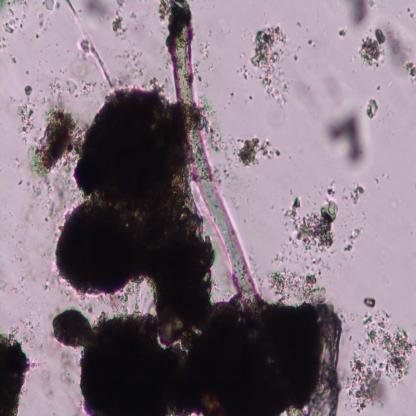Background material: (56, 72, 218, 331), (52, 300, 319, 416), (345, 309, 415, 408), (28, 105, 84, 180), (68, 3, 112, 88), (284, 186, 339, 252), (324, 100, 372, 175), (249, 21, 292, 100), (16, 177, 69, 223), (0, 330, 28, 415), (267, 269, 328, 307), (384, 21, 416, 83), (232, 136, 280, 170), (11, 242, 37, 296), (275, 252, 330, 273), (20, 81, 36, 144), (324, 67, 351, 104), (359, 29, 385, 66), (84, 0, 115, 29), (188, 32, 213, 66), (21, 319, 44, 354), (2, 2, 27, 34), (55, 342, 74, 382), (348, 0, 372, 29), (114, 0, 129, 41), (344, 228, 362, 252), (35, 13, 49, 41), (349, 180, 363, 203), (365, 96, 379, 118), (236, 61, 250, 80), (44, 269, 54, 290), (362, 297, 376, 309), (66, 79, 77, 94), (42, 1, 56, 12), (0, 38, 10, 53), (339, 25, 349, 37), (308, 39, 316, 52), (388, 200, 398, 210), (9, 55, 20, 63), (228, 89, 235, 97)
Cellulose filter fibre: (288, 306, 342, 416)
Microfibre: (166, 2, 260, 308)
